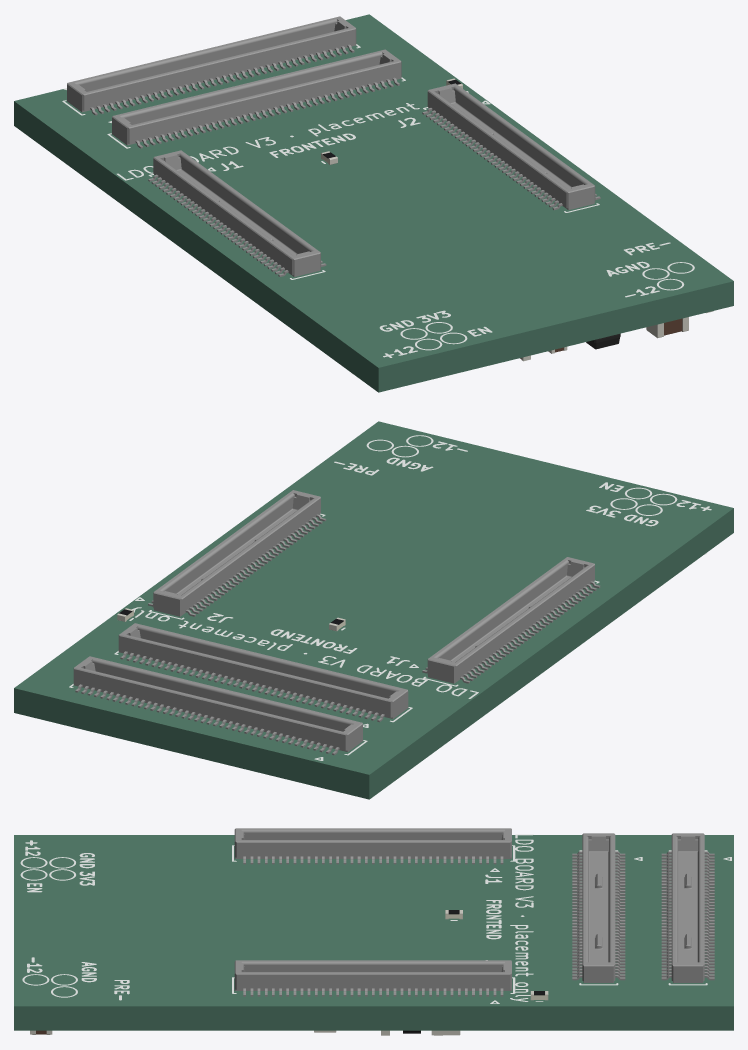
File: ldo-board-v3-placement.glb
3 views of the same model, one above another, from view 1: azimuth 30°, elevation 25°; view 2: azimuth 150°, elevation 25°; view 3: azimuth 270°, elevation 25° (orthographic).
Visible parts, largest first — view 1: =>[0:1:1:38], =>[0:1:1:5] (×2), =>[0:1:1:3] (×2), =>[0:1:1:36]; view 2: =>[0:1:1:38], =>[0:1:1:5] (×2), =>[0:1:1:3] (×2), =>[0:1:1:36]; view 3: =>[0:1:1:38], =>[0:1:1:3] (×2), =>[0:1:1:5] (×2), =>[0:1:1:36].
Boxes of the visible parts, left/top/right/bottom form: =>[0:1:1:38]: left=14, top=14, right=733, bottom=392; =>[0:1:1:5] (×2): left=67, top=16, right=401, bottom=148; =>[0:1:1:3] (×2): left=148, top=83, right=600, bottom=276; =>[0:1:1:36]: left=62, top=44, right=694, bottom=357; =>[0:1:1:38]: left=14, top=421, right=733, bottom=799; =>[0:1:1:5] (×2): left=73, top=623, right=408, bottom=755; =>[0:1:1:3] (×2): left=148, top=490, right=600, bottom=683; =>[0:1:1:36]: left=69, top=435, right=711, bottom=760; =>[0:1:1:38]: left=14, top=835, right=733, bottom=1030; =>[0:1:1:3] (×2): left=234, top=828, right=511, bottom=996; =>[0:1:1:5] (×2): left=572, top=833, right=714, bottom=982; =>[0:1:1:36]: left=20, top=834, right=731, bottom=1003.
Size of the model in its own units: 0.0227 by 0.00442 by 0.0403.
